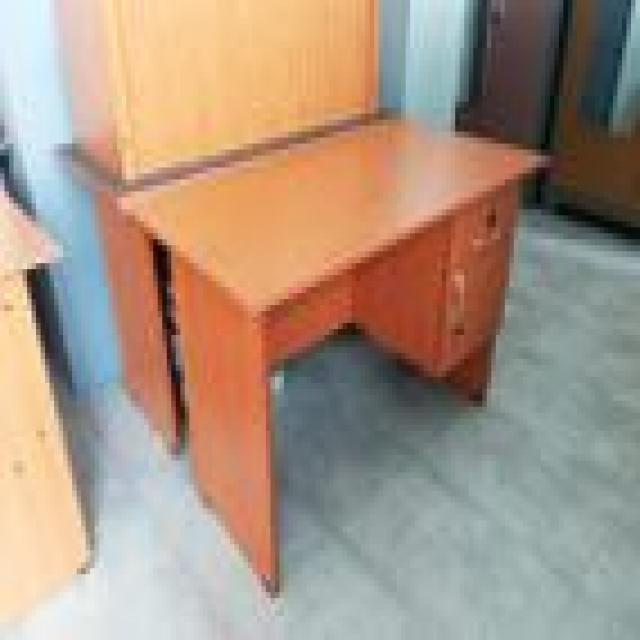others: (54, 6, 595, 604)
